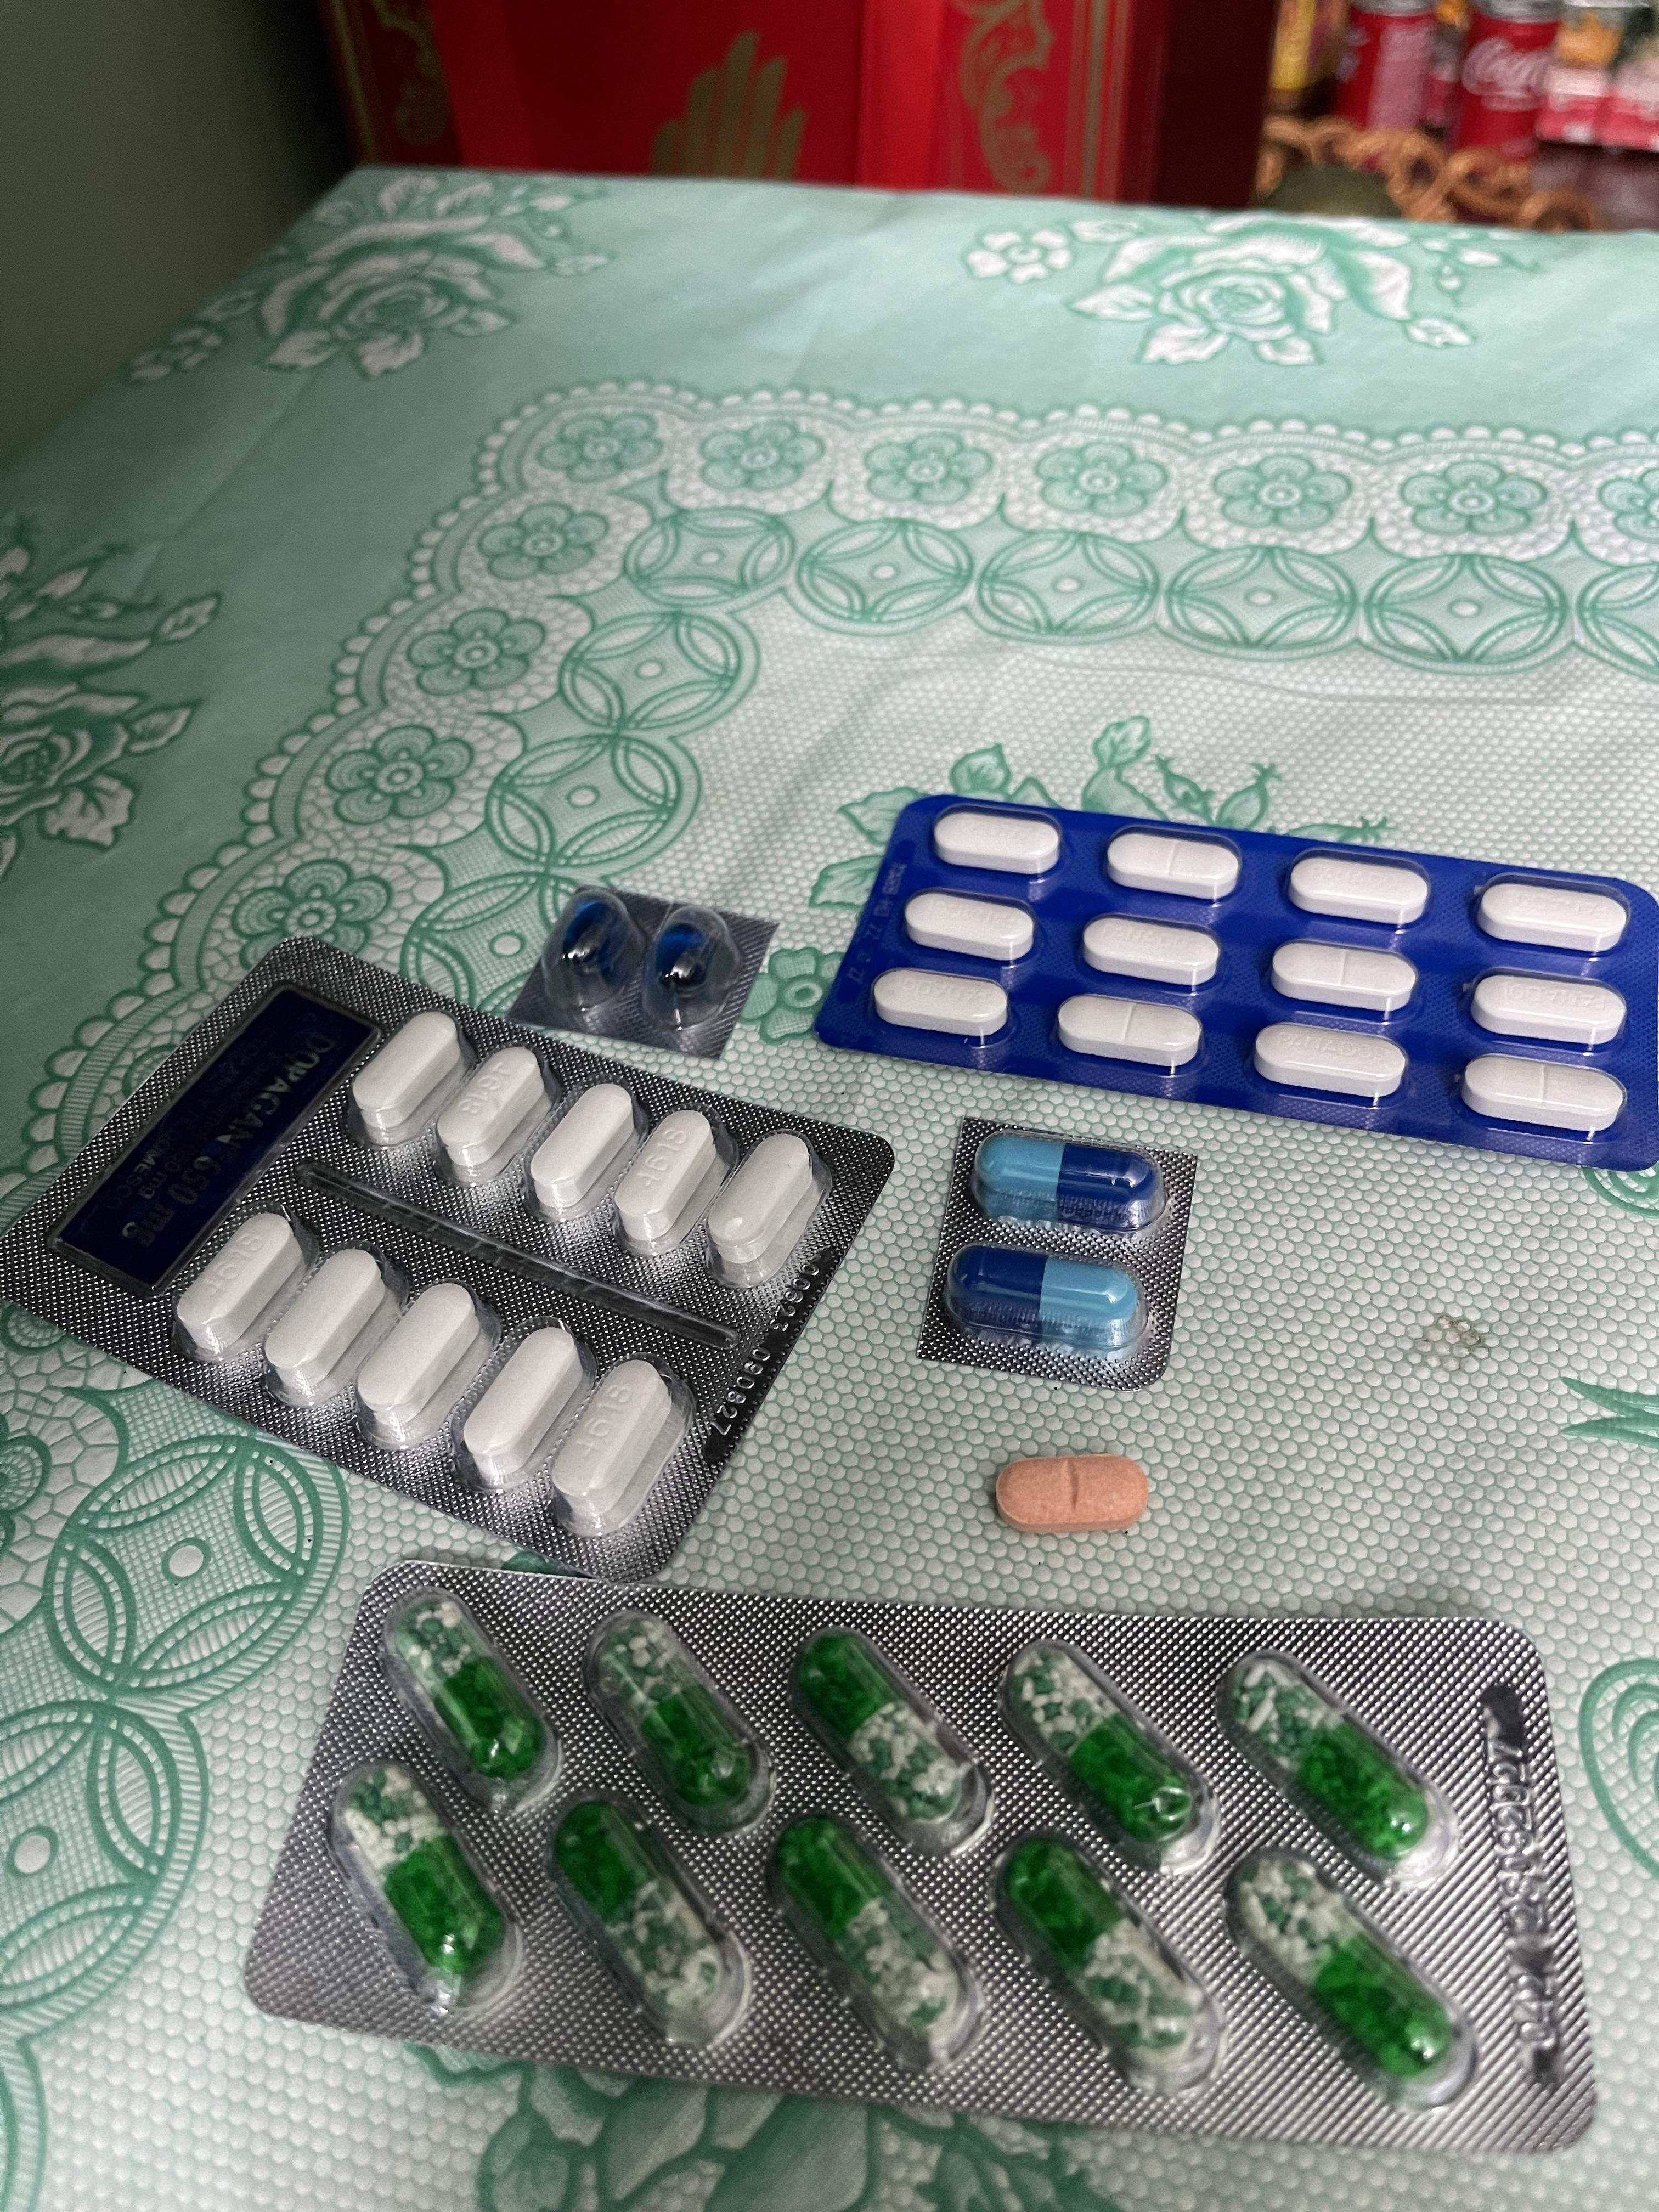Lincomyxin_500mg: (559, 899, 626, 977), (653, 927, 708, 989)
Loratadine_10mg: (995, 1453, 1152, 1533)
Paracetamol_350mg: (1460, 1054, 1629, 1132), (1253, 1022, 1408, 1101), (1469, 972, 1626, 1049), (1476, 878, 1631, 954), (1270, 939, 1419, 1015), (1284, 853, 1432, 928), (1056, 993, 1201, 1068), (1080, 914, 1220, 989), (1105, 829, 1243, 902), (873, 968, 1009, 1042), (904, 890, 1035, 963), (934, 810, 1065, 876)
Paracetamol_500mg: (549, 1357, 687, 1540), (354, 1277, 493, 1451), (460, 1327, 591, 1494), (260, 1247, 392, 1409), (176, 1212, 307, 1360), (430, 1043, 558, 1195), (708, 1129, 826, 1291), (608, 1109, 727, 1263), (530, 1082, 647, 1230), (350, 1008, 471, 1150)
Paracetamol_650mg: (999, 1824, 1227, 2095), (779, 1804, 999, 2073), (1248, 1853, 1464, 2090), (559, 1799, 739, 2038), (1236, 1663, 1436, 1860), (1014, 1649, 1202, 1855), (347, 1768, 511, 2003), (798, 1637, 974, 1834), (598, 1620, 767, 1824), (389, 1595, 558, 1796)
pill: (948, 1245, 1148, 1360), (974, 1134, 1161, 1231)
